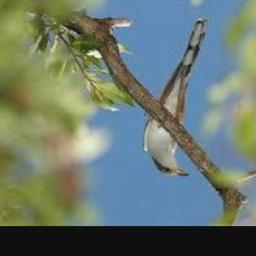Cuckoo: (143, 19, 207, 176)
